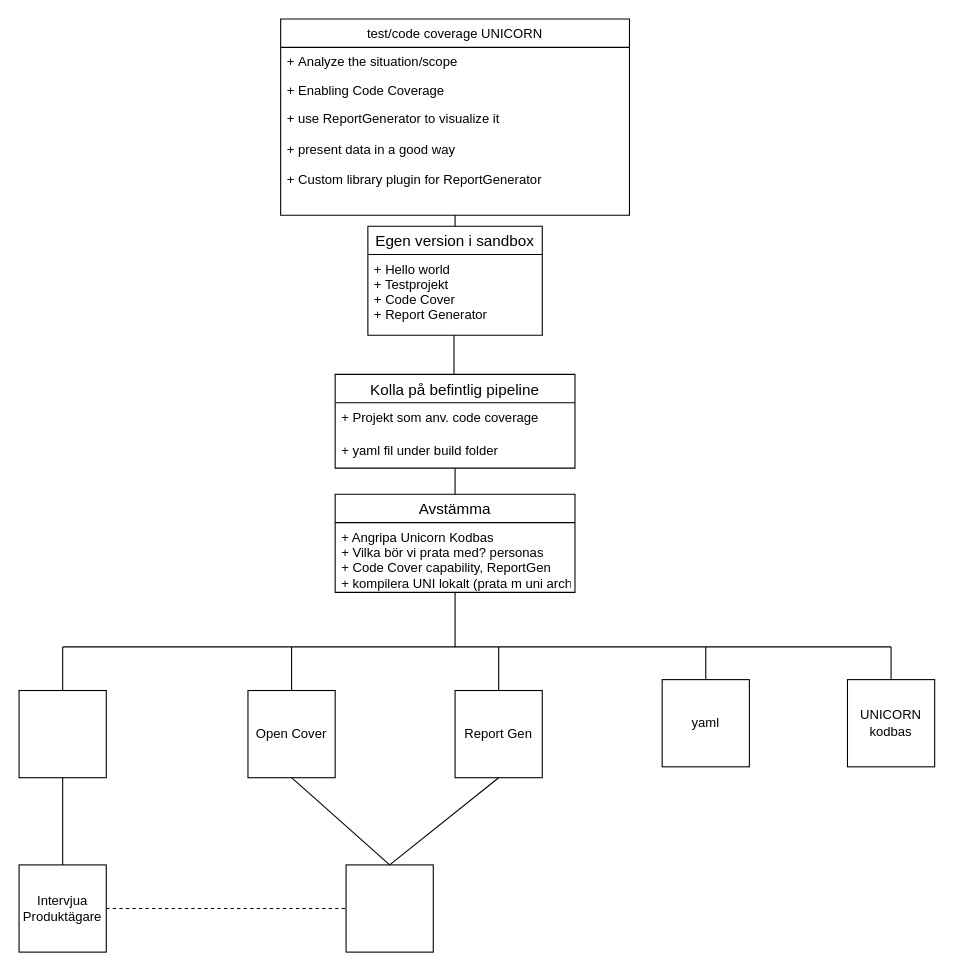
The diagram is 954 pixels wide and 971 high, and some of its shapes have lost their labels. The centre of each missing label's shape, as x and y in pixels:
persona: point 62,733
Report Gen + Code Cover Hur kapabel?: point 389,908
